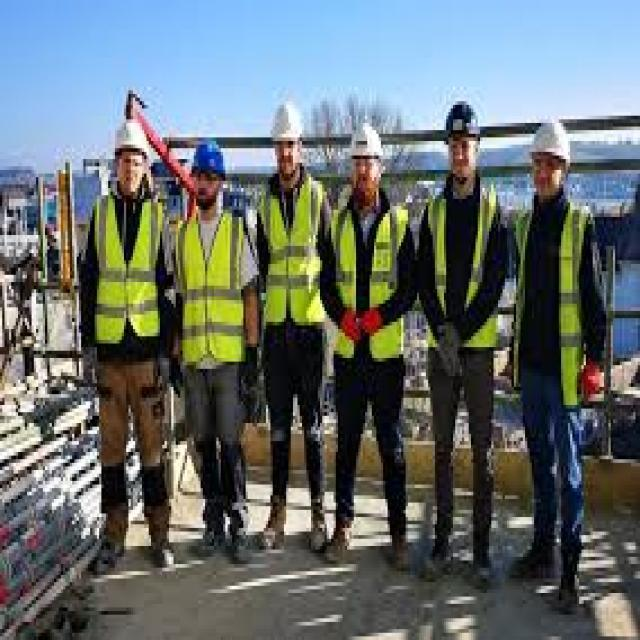reflective_jacket: (513, 198, 597, 408), (425, 181, 505, 358), (330, 195, 410, 365), (175, 209, 248, 376), (90, 191, 166, 350), (259, 173, 326, 339)
safety_helmet: (525, 112, 574, 166), (439, 94, 484, 141), (265, 94, 306, 144), (346, 115, 385, 162), (110, 115, 150, 159), (189, 133, 227, 177)
